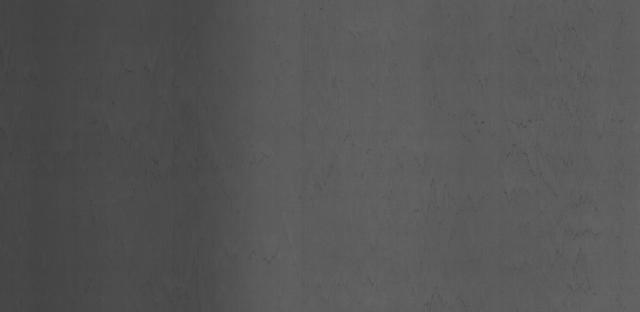silk_spot: (472, 117, 622, 278)
